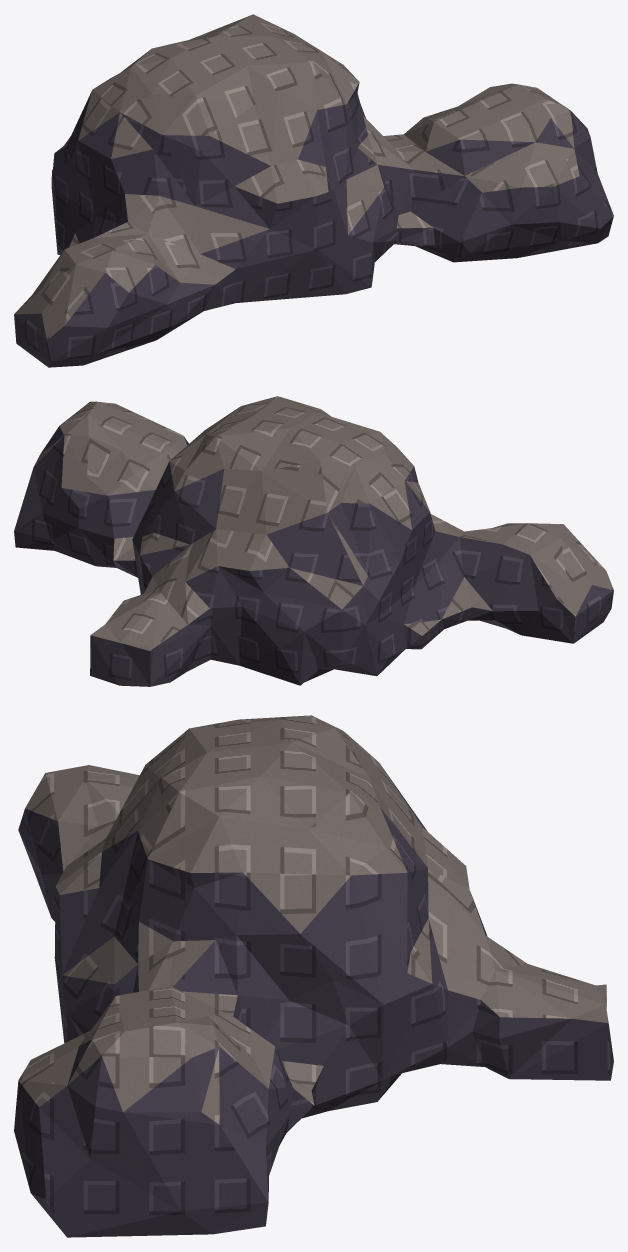
Rendered from BasaltBeachBoulders.glb.
3 renders of one model, top to bottom at view 1: azimuth 30°, elevation 25°; view 2: azimuth 150°, elevation 25°; view 3: azimuth 270°, elevation 25°, orthographic. The views are drawn at different scales.
Visible parts, largest first — view 1: BasaltBeachBoulders_Rock, BasaltBeachBoulders_Top; view 2: BasaltBeachBoulders_Rock, BasaltBeachBoulders_Top; view 3: BasaltBeachBoulders_Rock, BasaltBeachBoulders_Top.
Part boxes in pixels (left/top/right/bottom): BasaltBeachBoulders_Rock: left=14, top=82, right=613, bottom=367; BasaltBeachBoulders_Top: left=14, top=14, right=579, bottom=339; BasaltBeachBoulders_Rock: left=14, top=426, right=613, bottom=686; BasaltBeachBoulders_Top: left=34, top=396, right=613, bottom=650; BasaltBeachBoulders_Rock: left=14, top=767, right=613, bottom=1237; BasaltBeachBoulders_Top: left=18, top=715, right=608, bottom=1124.
Size of the model in its own units: 13.56 by 5.07 by 9.16.
2 materials, 2 textured.
